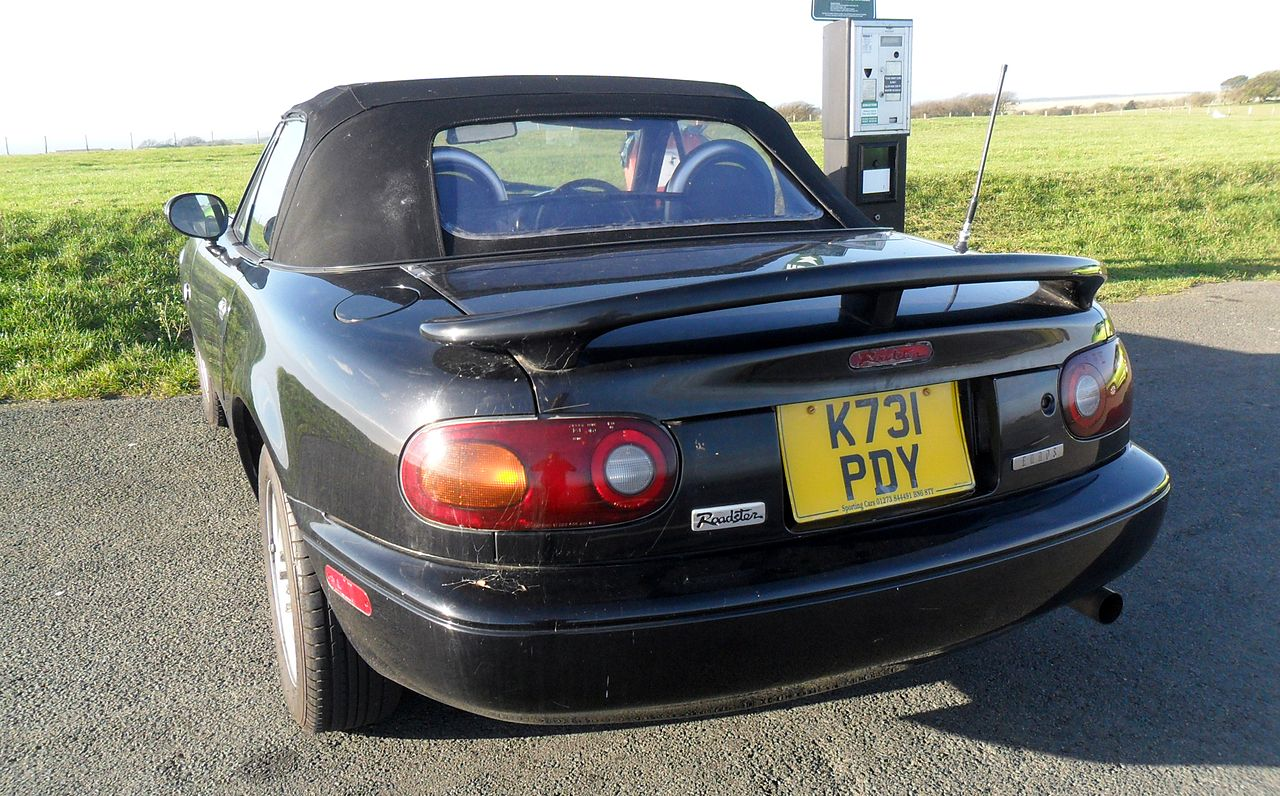plate: (776, 380, 977, 525)
